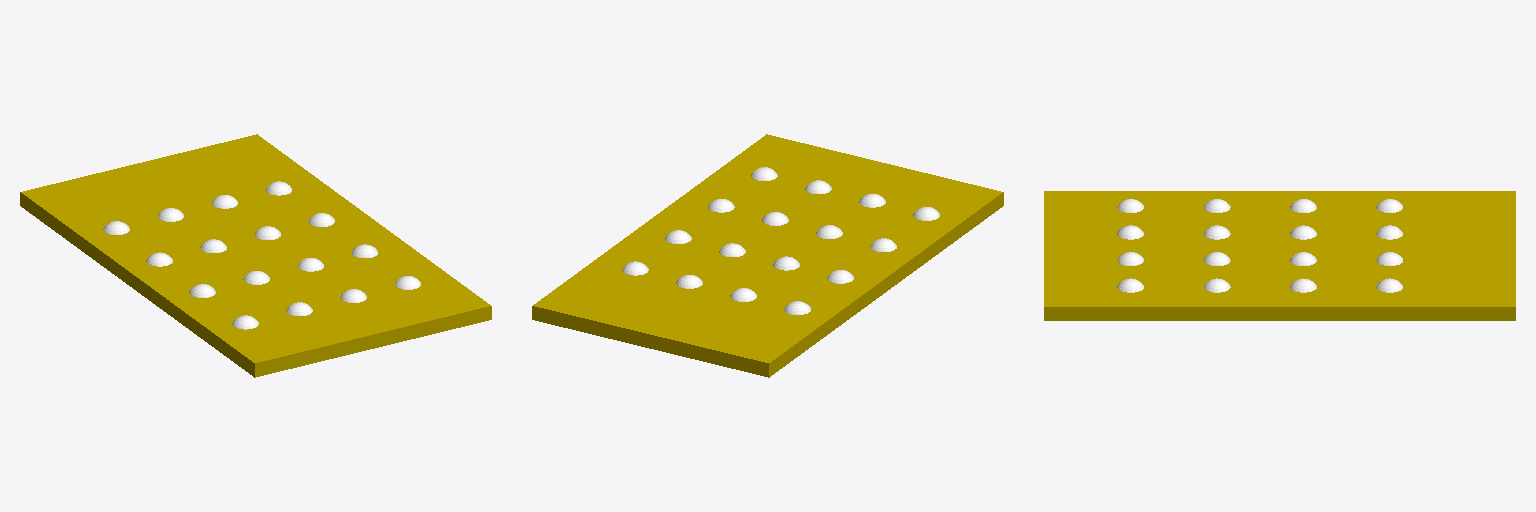
URDF robot description (eskin):
<?xml version="1.0" ?>
<robot name="eskin">
<!-- /////////////////////////////////////    COLOR    ///////////////////////////////////////////// -->
    <material name="Black">
        <color rgba="0 0 0 1"/>
    </material>
    <material name="White">
        <color rgba="1 1 1 0.95"/>
    </material>
    <material name="Blue">
        <color rgba="0 0 1 1"/>
    </material>
    <material name="Yellow">
        <color rgba="0.8 0.7 0 1"/>
    </material>

<!-- /////////////////////////////////////    BASE    ///////////////////////////////////////////// -->
    <link name="base_link">
        <visual>
            <origin xyz=" 1.75 3 0.3" rpy="0 0 0" />
            <geometry>
            <box size="3.5 6 0.2"/>
            </geometry>
            <material name="Yellow"/>
        </visual>
    </link>

<!-- /////////////////////////////////////    point1    ///////////////////////////////////////////// -->

    <link name="point1_link">
        <visual>
            <origin xyz="0 0 0" rpy="0 0 0" />
            <geometry>
                <sphere radius="0.2"/>
            </geometry>
            <material name="White"/>
        </visual>
    </link>

    <joint name="point1_joint" type="fixed">
        <origin xyz="0.5 1.1 0.3" rpy="0 0 0"/>
        <parent link="base_link"/>
        <child link="point1_link"/>
        <axis xyz="0 1 0"/>
    </joint>
<!-- /////////////////////////////////////    point2    ///////////////////////////////////////////// -->

    <link name="point2_link">
        <visual>
            <origin xyz="0 0 0" rpy="0 0 0" />
            <geometry>
                <sphere radius="0.2"/>
            </geometry>
            <material name="White"/>
        </visual>
    </link>

    <joint name="point2_joint" type="fixed">
        <origin xyz="0.8 0 0" rpy="0 0 0"/>
        <parent link="point1_link"/>
        <child link="point2_link"/>
        <axis xyz="0 1 0"/>
    </joint>


<!-- /////////////////////////////////////    point3    ///////////////////////////////////////////// -->

    <link name="point3_link">
        <visual>
            <origin xyz="0 0 0" rpy="0 0 0" />
            <geometry>
                <sphere radius="0.2"/>
            </geometry>
            <material name="White"/>
        </visual>
    </link>

    <joint name="point3_joint" type="fixed">
        <origin xyz="0.8 0 0" rpy="0 0 0"/>
        <parent link="point2_link"/>
        <child link="point3_link"/>
        <axis xyz="0 1 0"/>
    </joint>

<!-- /////////////////////////////////////    point4    ///////////////////////////////////////////// -->

    <link name="point4_link">
        <visual>
            <origin xyz="0 0 0" rpy="0 0 0" />
            <geometry>
                <sphere radius="0.2"/>
            </geometry>
            <material name="White"/>
        </visual>
    </link>

    <joint name="point4_joint" type="fixed">
        <origin xyz="0.8 0 0" rpy="0 0 0"/>
        <parent link="point3_link"/>
        <child link="point4_link"/>
        <axis xyz="0 1 0"/>
    </joint>
<!-- group -->
<!-- /////////////////////////////////////    point5    ///////////////////////////////////////////// -->

    <link name="point5_link">
        <visual>
            <origin xyz="0 0 0" rpy="0 0 0" />
            <geometry>
                <sphere radius="0.2"/>
            </geometry>
            <material name="White"/>
        </visual>
    </link>

    <joint name="point5_joint" type="fixed">
        <origin xyz="0 1.1 0" rpy="0 0 0"/>
        <parent link="point1_link"/>
        <child link="point5_link"/>
        <axis xyz="0 1 0"/>
    </joint>

<!-- /////////////////////////////////////    point6    ///////////////////////////////////////////// -->

    <link name="point6_link">
        <visual>
            <origin xyz="0 0 0" rpy="0 0 0" />
            <geometry>
                <sphere radius="0.2"/>
            </geometry>
            <material name="White"/>
        </visual>
    </link>

    <joint name="point6_joint" type="fixed">
        <origin xyz="0.8 0 0" rpy="0 0 0"/>
        <parent link="point5_link"/>
        <child link="point6_link"/>
        <axis xyz="0 1 0"/>
    </joint>

<!-- /////////////////////////////////////    point7    ///////////////////////////////////////////// -->

    <link name="point7_link">
        <visual>
            <origin xyz="0 0 0" rpy="0 0 0" />
            <geometry>
                <sphere radius="0.2"/>
            </geometry>
            <material name="White"/>
        </visual>
    </link>

    <joint name="point7_joint" type="fixed">
        <origin xyz="0.8 0 0" rpy="0 0 0"/>
        <parent link="point6_link"/>
        <child link="point7_link"/>
        <axis xyz="0 1 0"/>
    </joint>


<!-- /////////////////////////////////////    point8    ///////////////////////////////////////////// -->

    <link name="point8_link">
        <visual>
            <origin xyz="0 0 0" rpy="0 0 0" />
            <geometry>
                <sphere radius="0.2"/>
            </geometry>
            <material name="White"/>
        </visual>
    </link>

    <joint name="point8_joint" type="fixed">
        <origin xyz="0.8 0 0" rpy="0 0 0"/>
        <parent link="point7_link"/>
        <child link="point8_link"/>
        <axis xyz="0 1 0"/>
    </joint>


<!-- /////////////////////////////////////    point9    ///////////////////////////////////////////// -->

    <link name="point9_link">
        <visual>
            <origin xyz="0 0 0" rpy="0 0 0" />
            <geometry>
                <sphere radius="0.2"/>
            </geometry>
            <material name="White"/>
        </visual>
    </link>

    <joint name="point9_joint" type="fixed">
        <origin xyz="0 1.1 0" rpy="0 0 0"/>
        <parent link="point5_link"/>
        <child link="point9_link"/>
        <axis xyz="0 1 0"/>
    </joint>

<!-- /////////////////////////////////////    point10    ///////////////////////////////////////////// -->

    <link name="point10_link">
        <visual>
            <origin xyz="0 0 0" rpy="0 0 0" />
            <geometry>
                <sphere radius="0.2"/>
            </geometry>
            <material name="White"/>
        </visual>
    </link>

    <joint name="point10_joint" type="fixed">
        <origin xyz="0.8 0 0" rpy="0 0 0"/>
        <parent link="point9_link"/>
        <child link="point10_link"/>
        <axis xyz="0 1 0"/>
    </joint> 

<!-- /////////////////////////////////////    point11    ///////////////////////////////////////////// -->

    <link name="point11_link">
        <visual>
            <origin xyz="0 0 0" rpy="0 0 0" />
            <geometry>
                <sphere radius="0.2"/>
            </geometry>
            <material name="White"/>
        </visual>
    </link>

    <joint name="point11_joint" type="fixed">
        <origin xyz="0.8 0 0" rpy="0 0 0"/>
        <parent link="point10_link"/>
        <child link="point11_link"/>
        <axis xyz="0 1 0"/>
    </joint> 

<!-- /////////////////////////////////////    point12    ///////////////////////////////////////////// -->

    <link name="point12_link">
        <visual>
            <origin xyz="0 0 0" rpy="0 0 0" />
            <geometry>
                <sphere radius="0.2"/>
            </geometry>
            <material name="White"/>
        </visual>
    </link>

    <joint name="point12_joint" type="fixed">
        <origin xyz="0.8 0 0" rpy="0 0 0"/>
        <parent link="point11_link"/>
        <child link="point12_link"/>
        <axis xyz="0 1 0"/>
    </joint> 

<!-- /////////////////////////////////////  group  point13    ///////////////////////////////////////////// -->

    <link name="point13_link">
        <visual>
            <origin xyz="0 0 0" rpy="0 0 0" />
            <geometry>
                <sphere radius="0.2"/>
            </geometry>
            <material name="White"/>
        </visual>
    </link>

    <joint name="point13_joint" type="fixed">
        <origin xyz="0 1.1 0" rpy="0 0 0"/>
        <parent link="point9_link"/>
        <child link="point13_link"/>
        <axis xyz="0 1 0"/>
    </joint> 

<!-- ///////////////////////////////////// point14    ///////////////////////////////////////////// -->

    <link name="point14_link">
        <visual>
            <origin xyz="0 0 0" rpy="0 0 0" />
            <geometry>
                <sphere radius="0.2"/>
            </geometry>
            <material name="White"/>
        </visual>
    </link>

    <joint name="point14_joint" type="fixed">
        <origin xyz="0.8 0 0" rpy="0 0 0"/>
        <parent link="point13_link"/>
        <child link="point14_link"/>
        <axis xyz="0 1 0"/>
    </joint> 
<!-- ///////////////////////////////////// point15    ///////////////////////////////////////////// -->

    <link name="point15_link">
        <visual>
            <origin xyz="0 0 0" rpy="0 0 0" />
            <geometry>
                <sphere radius="0.2"/>
            </geometry>
            <material name="White"/>
        </visual>
    </link>

    <joint name="point15_joint" type="fixed">
        <origin xyz="0.8 0 0" rpy="0 0 0"/>
        <parent link="point14_link"/>
        <child link="point15_link"/>
        <axis xyz="0 1 0"/>
    </joint> 
    <!-- ///////////////////////////////////// point16    ///////////////////////////////////////////// -->

    <link name="point16_link">
        <visual>
            <origin xyz="0 0 0" rpy="0 0 0" />
            <geometry>
                <sphere radius="0.2"/>
            </geometry>
            <material name="White"/>
        </visual>
    </link>

    <joint name="point16_joint" type="fixed">
        <origin xyz="0.8 0 0" rpy="0 0 0"/>
        <parent link="point15_link"/>
        <child link="point16_link"/>
        <axis xyz="0 1 0"/>
    </joint> 
</robot>

--- Facts derived from the render (not from the file) ---
Views: 3 orthographic renders of the robot side by side, from view 1: azimuth 30°, elevation 25°; view 2: azimuth 150°, elevation 25°; view 3: azimuth 270°, elevation 25°.
Model eskin with 17 links and 16 joints (16 fixed), rooted at base_link, posed all joints at 0.
Visible links, largest first — view 1: base_link; view 2: base_link; view 3: base_link.
Link boxes in pixels (left/top/right/bottom): base_link: left=20, top=134, right=491, bottom=377; base_link: left=532, top=134, right=1003, bottom=377; base_link: left=1044, top=191, right=1515, bottom=320.
Size in the robot's own frame: 3.5 by 6 by 0.4 metres.
Geometry: primitives only (box / cylinder / sphere), no mesh files.
